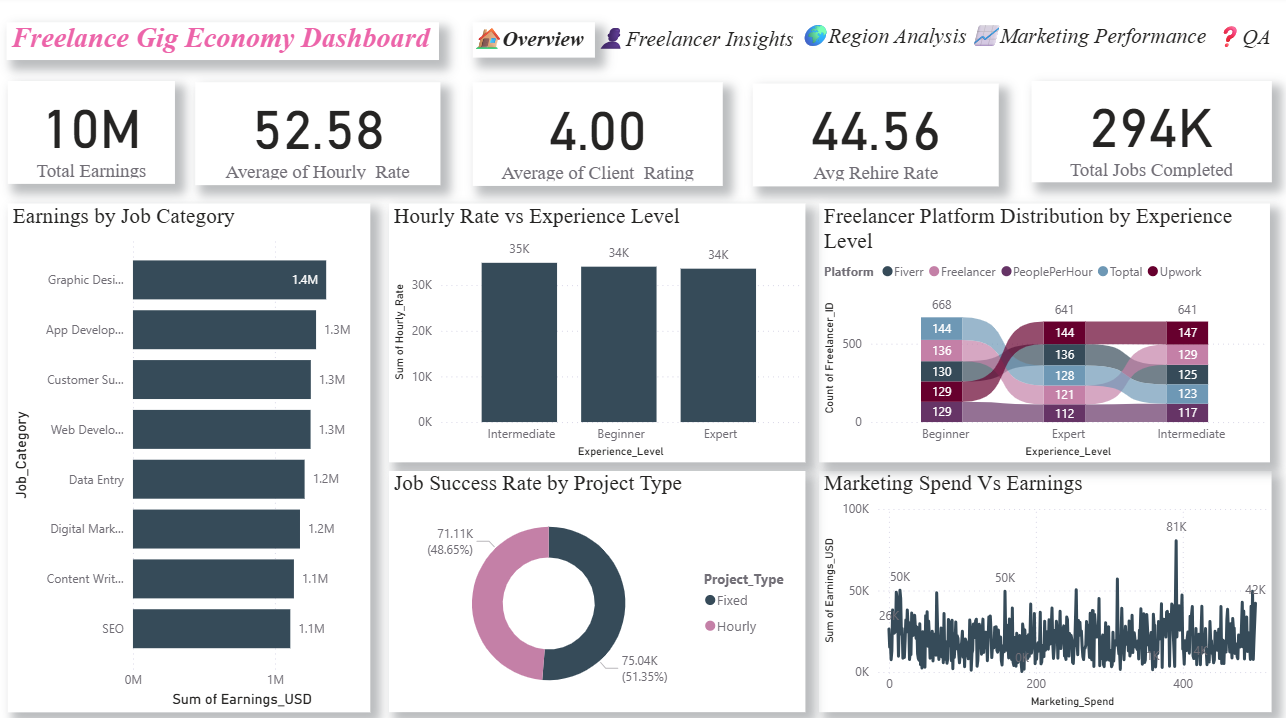

This screenshot's page, from the dashboard's own definition file:
{"tool":"powerbi","page":{"name":"Overview","canvas":[1280,720],"ordinal":0},"visuals":[{"type":"textbox","title":"Freelance Gig Economy Dashboard","box":[7.6,26.6,430.4,38],"z":0},{"type":"card","fields":{"Values":["freelancer_earnings_bd.Total Earnings"]},"box":[8.7,84.6,166.7,102],"z":1000},{"type":"card","fields":{"Values":["Avg(freelancer_earnings_bd.Hourly_Rate)"]},"box":[195.3,85.8,243.8,102],"z":2000},{"type":"card","fields":{"Values":["Avg(freelancer_earnings_bd.Client_Rating)"]},"box":[471.5,85.8,248.8,103.2],"z":3000},{"type":"card","fields":{"Values":["freelancer_earnings_bd.Avg Rehire Rate"]},"box":[750.1,87.1,245.1,102],"z":4000},{"type":"card","fields":{"Values":["freelancer_earnings_bd.Total Jobs Completed"]},"box":[1027.5,84.6,238.8,100.8],"z":5000},{"type":"barChart","title":"Earnings by Job Category","fields":{"Y":["Sum(freelancer_earnings_bd.Earnings_USD)"],"Category":["freelancer_earnings_bd.Job_Category"]},"box":[8.7,206.5,360.7,506.3],"z":6000},{"type":"lineChart","title":"Marketing Spend Vs Earnings","fields":{"Category":["freelancer_earnings_bd.Marketing_Spend"],"Y":["Sum(freelancer_earnings_bd.Earnings_USD)"]},"box":[816,472.7,450.3,240.1],"z":7000},{"type":"ribbonChart","title":"Freelancer Platform Distribution by Experience Level","fields":{"Category":["freelancer_earnings_bd.Experience_Level"],"Series":["freelancer_earnings_bd.Platform"],"Y":["CountNonNull(freelancer_earnings_bd.Freelancer_ID)"]},"box":[816,206.5,449.1,257.5],"z":8000},{"type":"columnChart","title":"Hourly Rate vs Experience Level","fields":{"Category":["freelancer_earnings_bd.Experience_Level"],"Y":["Sum(freelancer_earnings_bd.Hourly_Rate)"]},"box":[388.1,206.5,414.2,257.5],"z":9000},{"type":"donutChart","title":"Job Success Rate by Project Type","fields":{"Y":["Sum(freelancer_earnings_bd.Job_Success_Rate)"],"Category":["freelancer_earnings_bd.Project_Type"]},"box":[388.1,472.7,414.2,240.1],"z":10000},{"type":"actionButton","title":"🏠Overview","box":[470.9,26.6,121.5,35.4],"z":11000},{"type":"actionButton","title":"👤Freelancer Insights","box":[594.9,26.6,200,34.2],"z":12000},{"type":"actionButton","title":"🌍Region Analysis","box":[796.2,24.1,170.9,36.7],"z":13000},{"type":"actionButton","title":"📈Marketing Performance","box":[967.1,24.1,240.5,35.4],"z":14000},{"type":"actionButton","title":"❓QA","box":[1207.6,25.3,58.2,34.2],"z":15000}]}

Visuals, with their boxes in screenshot pixels (x1, y1, x2, y2), scaled from the page's 1280x720 canvas onto the 1286x718 screenshot:
"Freelance Gig Economy Dashboard" textbox: bbox=[8, 27, 440, 64]
card - freelancer_earnings_bd.Total Earnings: bbox=[9, 84, 176, 186]
card - Avg(freelancer_earnings_bd.Hourly_Rate): bbox=[196, 86, 441, 187]
card - Avg(freelancer_earnings_bd.Client_Rating): bbox=[474, 86, 724, 188]
card - freelancer_earnings_bd.Avg Rehire Rate: bbox=[754, 87, 1000, 189]
card - freelancer_earnings_bd.Total Jobs Completed: bbox=[1032, 84, 1272, 185]
"Earnings by Job Category" barChart: bbox=[9, 206, 371, 711]
"Marketing Spend Vs Earnings" lineChart: bbox=[820, 471, 1272, 711]
"Freelancer Platform Distribution by Experience Level" ribbonChart: bbox=[820, 206, 1271, 463]
"Hourly Rate vs Experience Level" columnChart: bbox=[390, 206, 806, 463]
"Job Success Rate by Project Type" donutChart: bbox=[390, 471, 806, 711]
"🏠Overview" actionButton: bbox=[473, 27, 595, 62]
"👤Freelancer Insights" actionButton: bbox=[598, 27, 799, 61]
"🌍Region Analysis" actionButton: bbox=[800, 24, 972, 61]
"📈Marketing Performance" actionButton: bbox=[972, 24, 1213, 59]
"❓QA" actionButton: bbox=[1213, 25, 1272, 59]
